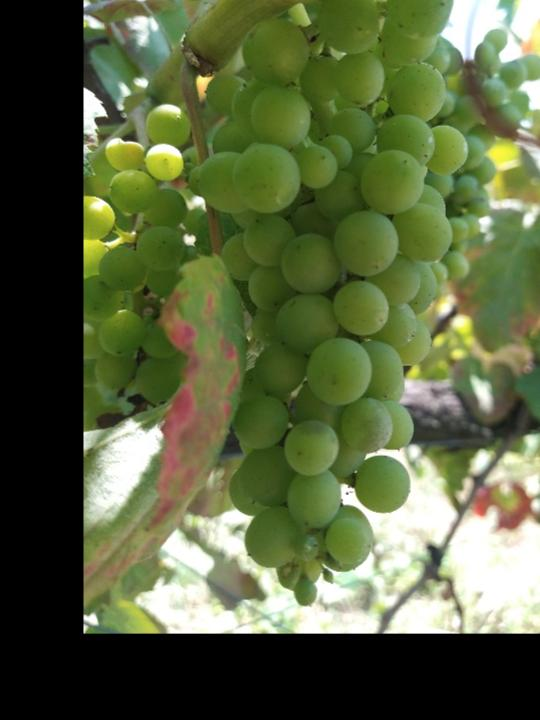grape: (187, 0, 468, 607)
